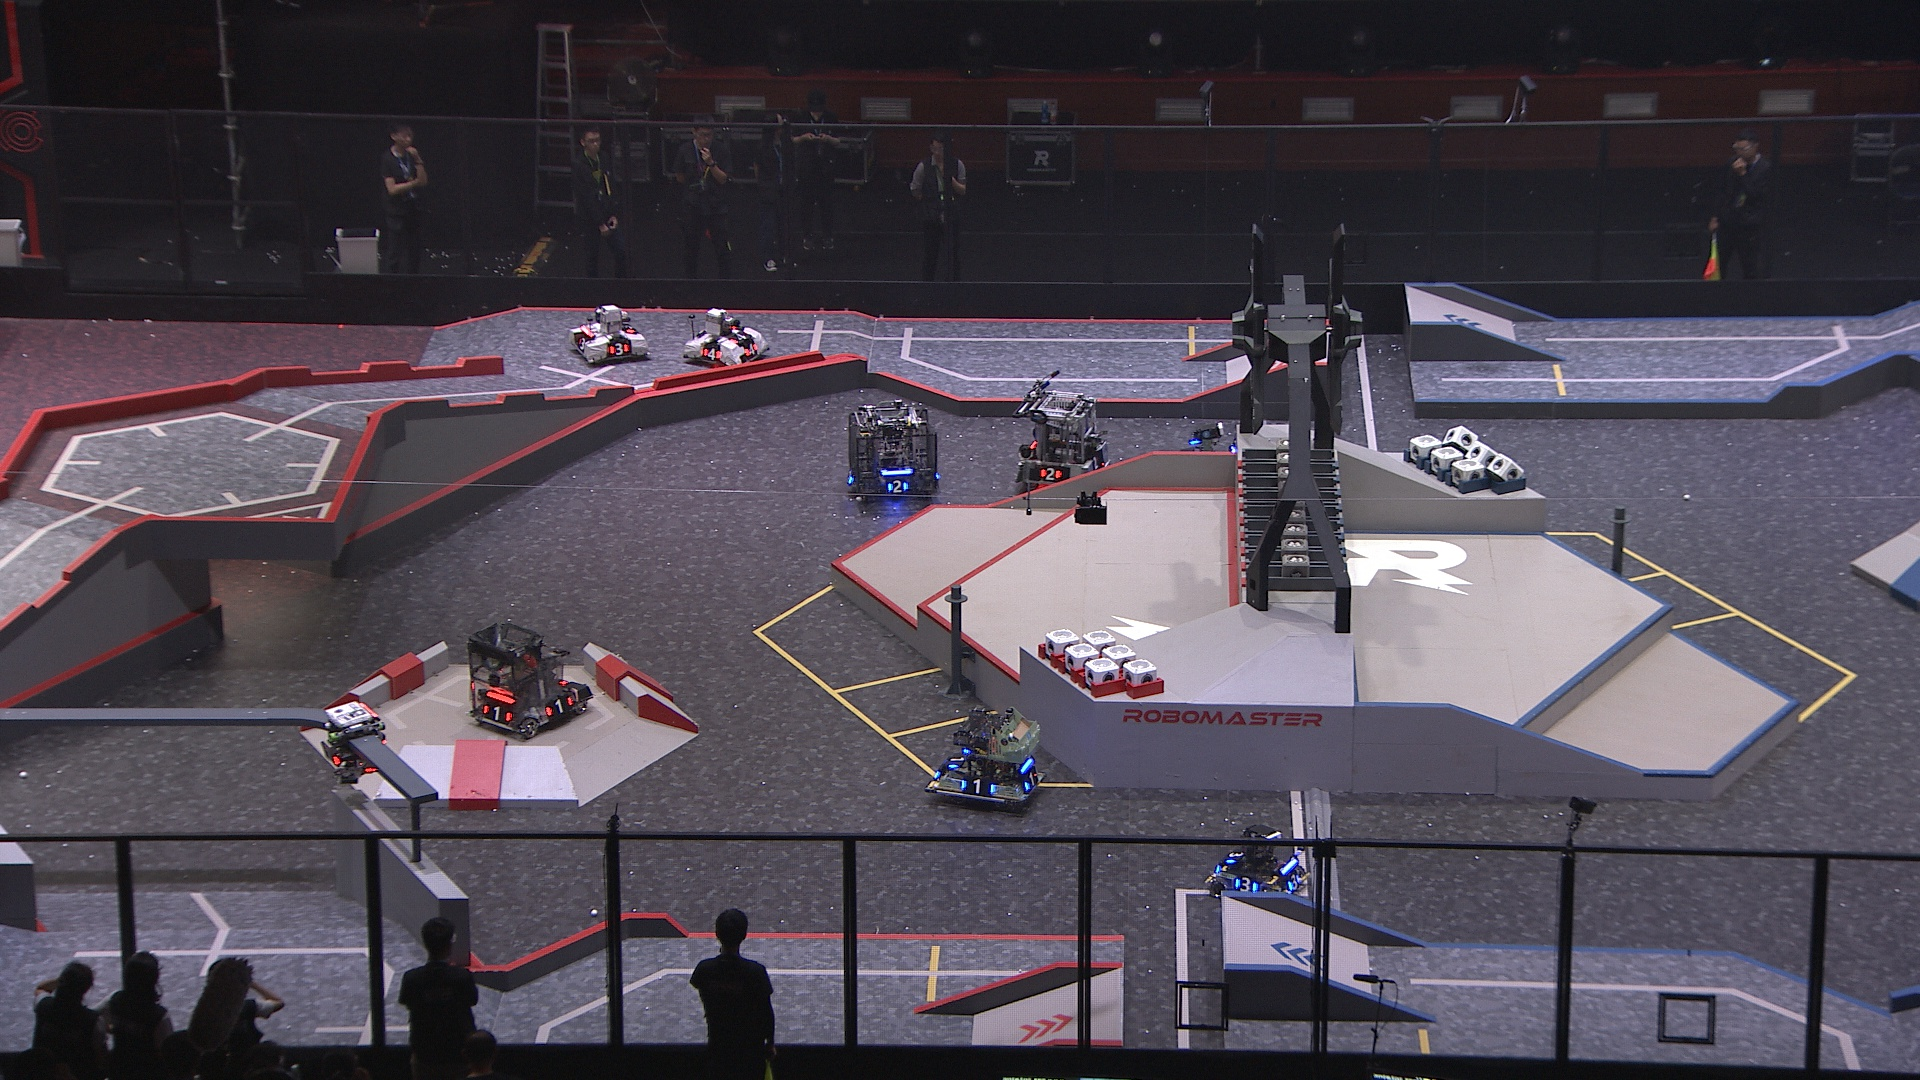armor: (481, 703, 512, 725), (319, 740, 342, 769), (960, 778, 994, 796), (542, 698, 574, 717), (1021, 769, 1040, 793), (1233, 876, 1258, 894), (945, 752, 965, 774), (1038, 465, 1062, 484), (884, 477, 909, 495), (607, 342, 632, 357), (1222, 849, 1244, 866), (700, 347, 723, 363), (1284, 872, 1302, 891), (742, 342, 760, 357), (1087, 454, 1102, 471), (574, 335, 589, 351), (731, 332, 749, 345)
car: (465, 622, 585, 738), (926, 704, 1046, 814), (844, 404, 942, 508), (1013, 389, 1110, 493), (1205, 823, 1305, 909), (683, 305, 771, 367), (568, 302, 647, 365), (1171, 423, 1249, 484)
watcher: (316, 699, 389, 785)
